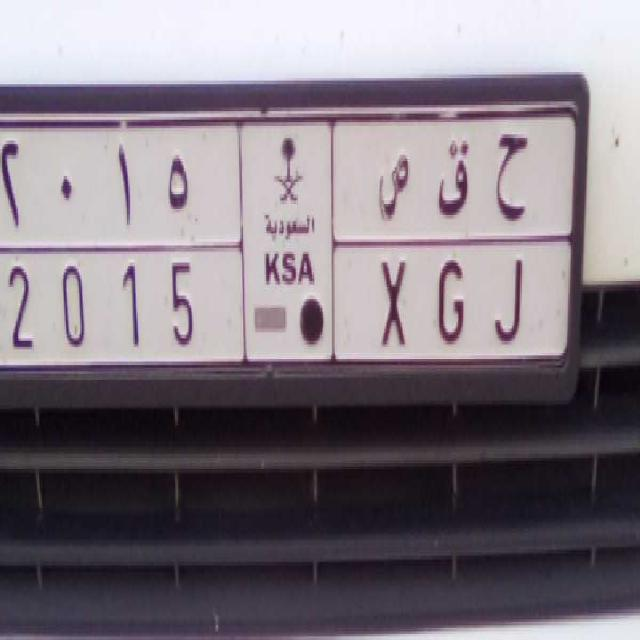license_plate: (0, 244, 564, 370)
